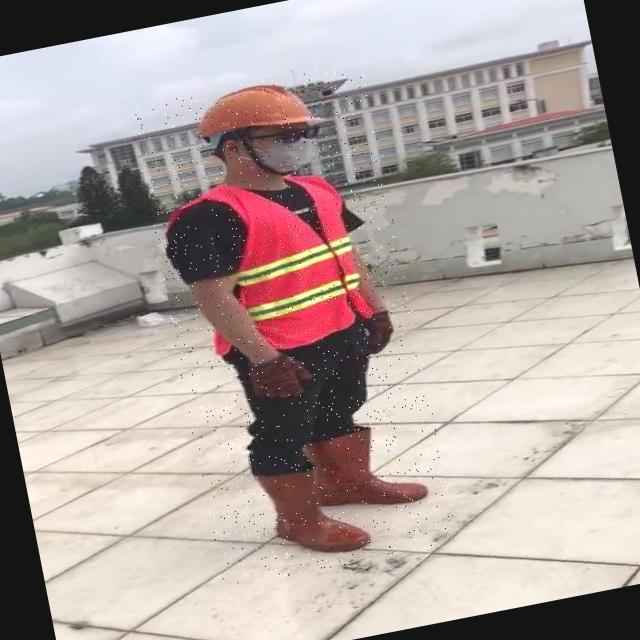boots: (302, 418, 428, 519), (255, 460, 372, 566)
gloves: (230, 336, 313, 408)
helmet: (185, 72, 326, 147)
vest: (184, 164, 371, 360)
